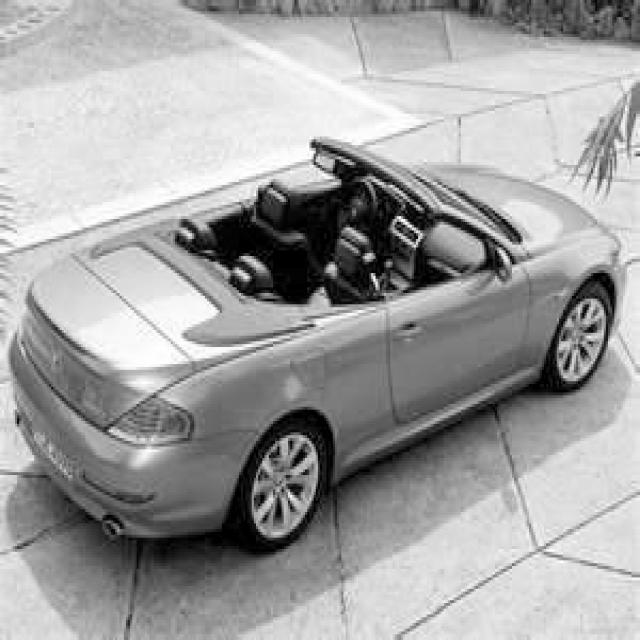car: (7, 134, 630, 552)
